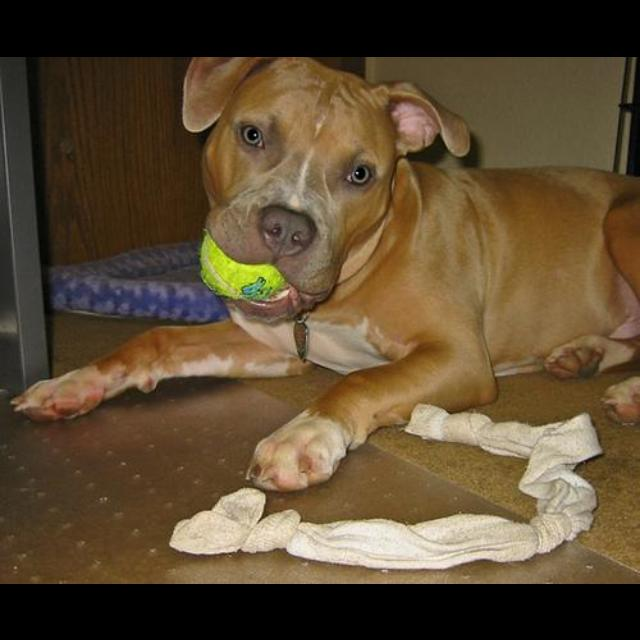amstaff: (11, 58, 640, 495)
